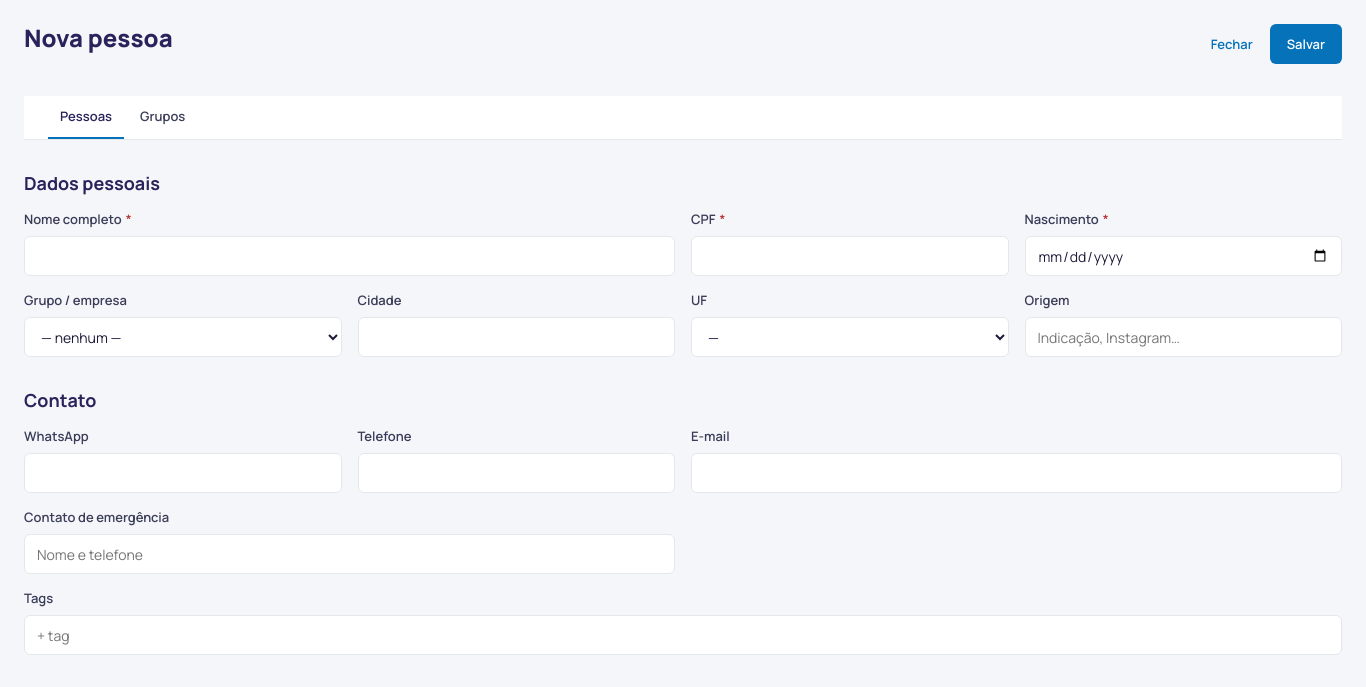
nova pessoa: e-mail digitado vai no POST e volta repovoado ao reabrir (ALT-02)
The image size is (1366, 687).
In the field labelled "Nome completo *": (350, 256) [24,236,675,276], type "QA Nova"
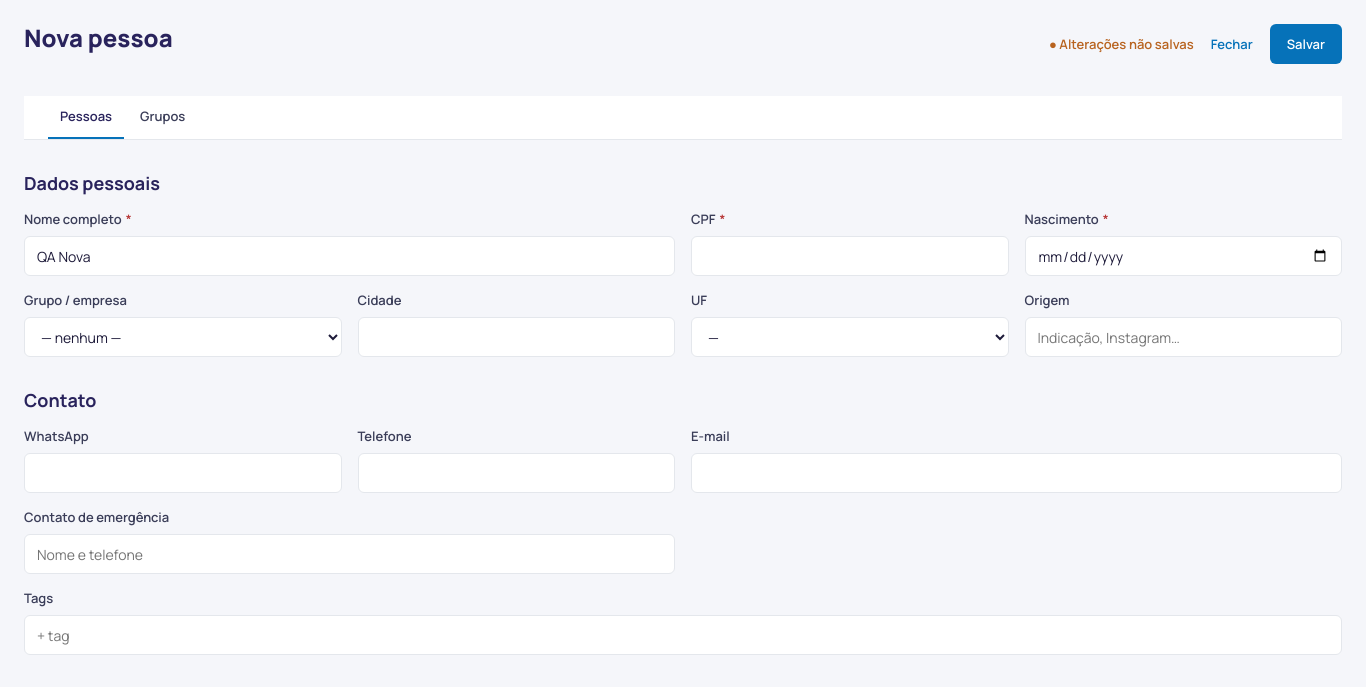
In the field labelled "E-mail": (1016, 473) [691,453,1342,493], type "qa1205@teste.dev"
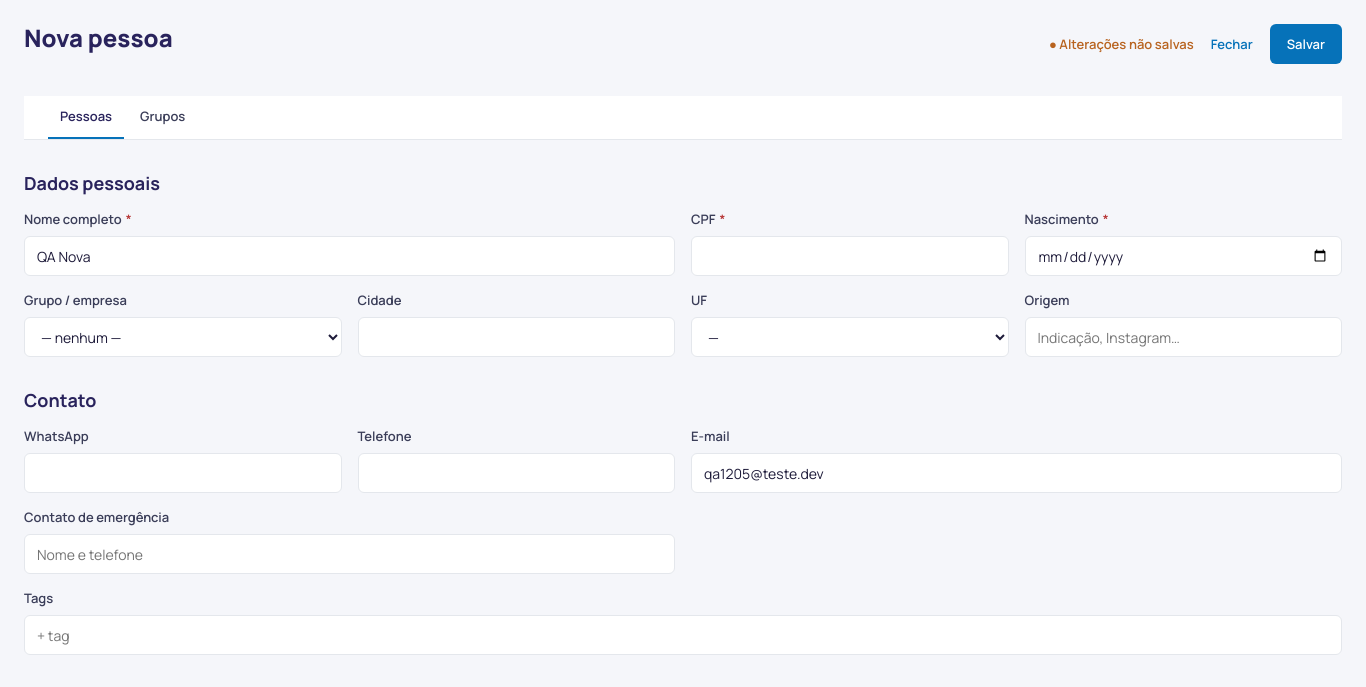
Click the button "Salvar": (1306, 44) [1270,24,1342,64]
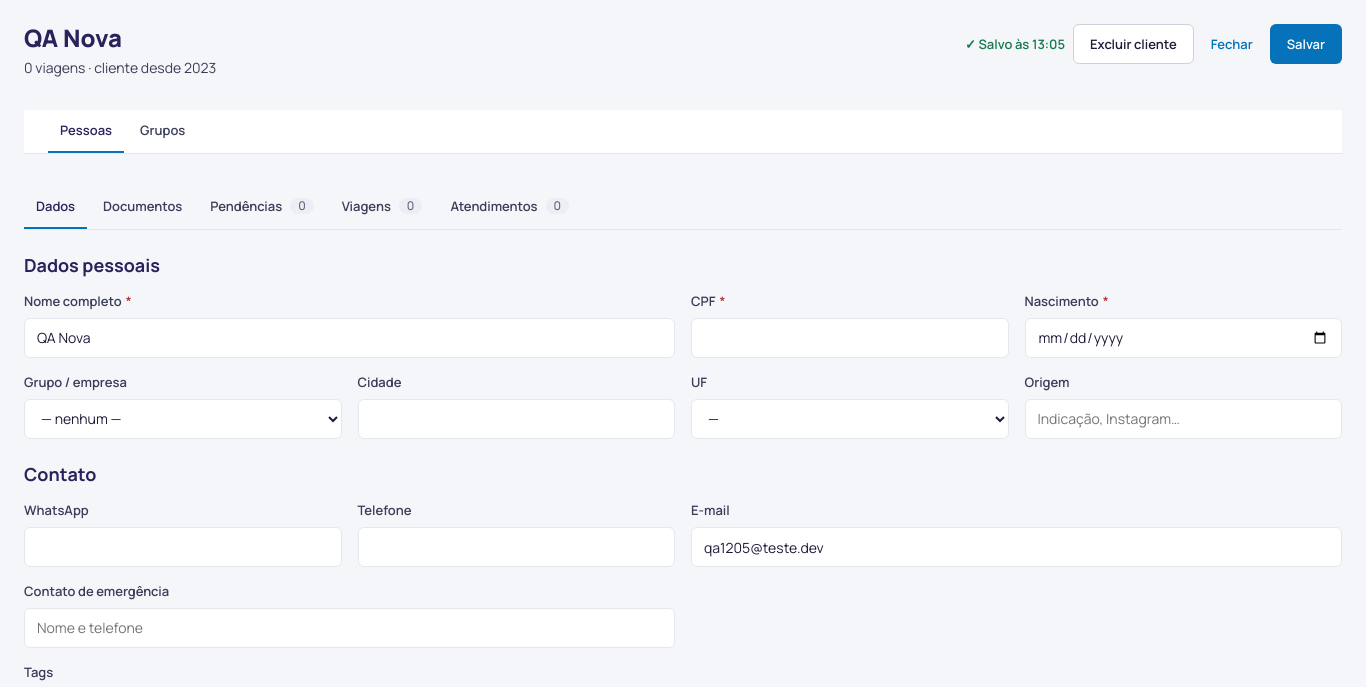
Result: the field showing "qa1205@teste.dev" is shown at [691,527,1342,567]
